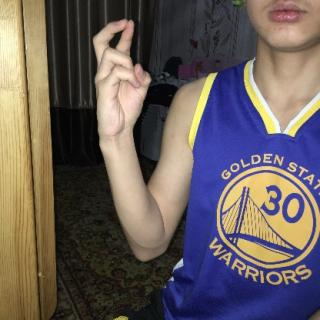ZAY: (92, 17, 156, 147)
